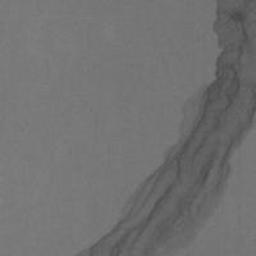Water spot: (74, 0, 256, 255)
